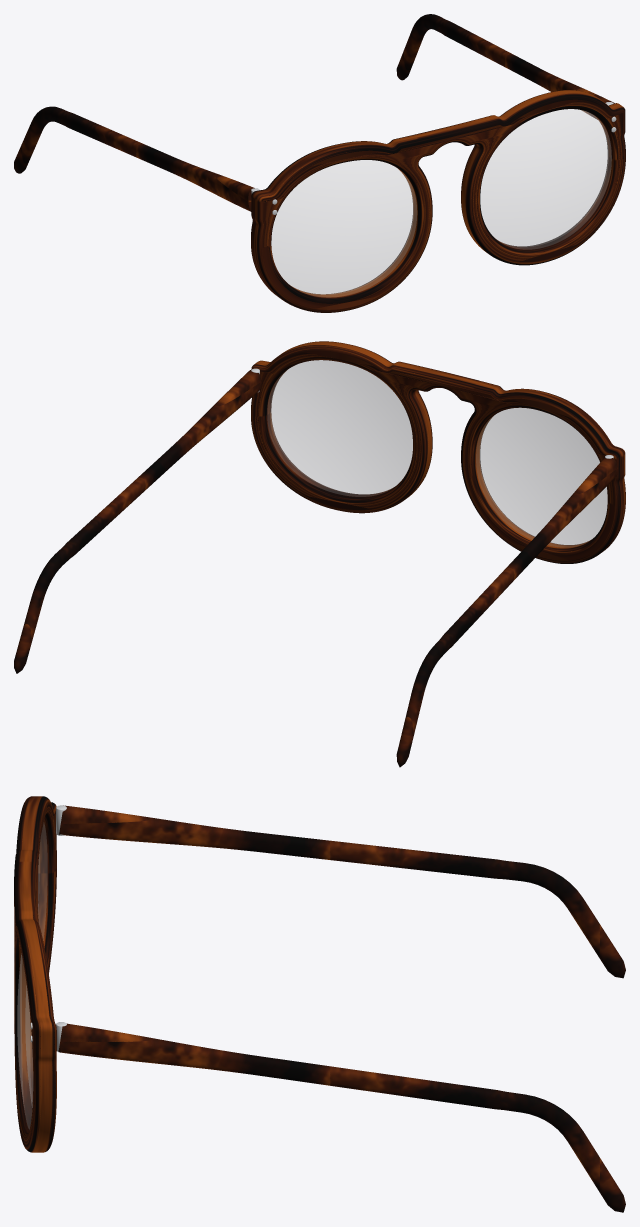
The model's file is milo-s.glb.
3 renders of one model, top to bottom at view 1: azimuth 30°, elevation 25°; view 2: azimuth 150°, elevation 25°; view 3: azimuth 270°, elevation 25°, orthographic. The views are drawn at different scales.
Visible parts, largest first — view 1: Front, Lens_R, Lens_L, Temple_R, Temple_L; view 2: Front, Lens_L, Lens_R, Temple_L, Temple_R; view 3: Front, Temple_L, Temple_R, Lens_L, Lens_R.
Boxes of the visible parts, x1,y1,x2,y2 form: Front: (251, 90, 625, 312); Lens_R: (271, 160, 416, 297); Lens_L: (480, 109, 611, 249); Temple_R: (14, 106, 254, 211); Temple_L: (396, 14, 614, 119); Front: (251, 341, 625, 563); Lens_L: (267, 360, 412, 496); Lens_R: (476, 408, 607, 547); Temple_L: (14, 370, 261, 673); Temple_R: (396, 458, 617, 767); Front: (14, 796, 66, 1152); Temple_L: (58, 1023, 625, 1212); Temple_R: (59, 805, 625, 978); Lens_L: (17, 954, 32, 1128); Lens_R: (38, 824, 47, 940).
Size of the model in its own units: 0.1263 by 0.0548 by 0.1362.
Materials: 4 (2 with a texture image).
